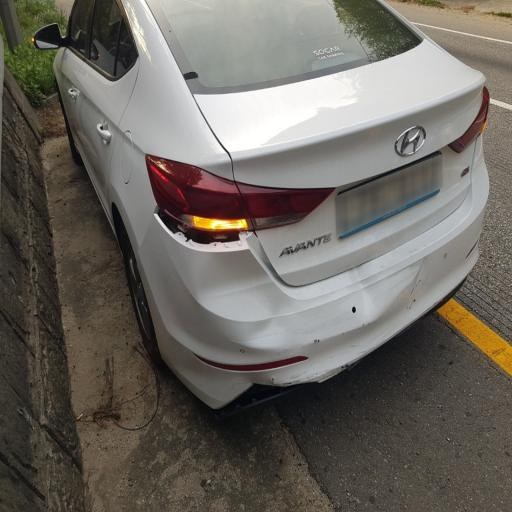broken: (126, 154, 271, 280)
dent: (312, 242, 423, 336)
